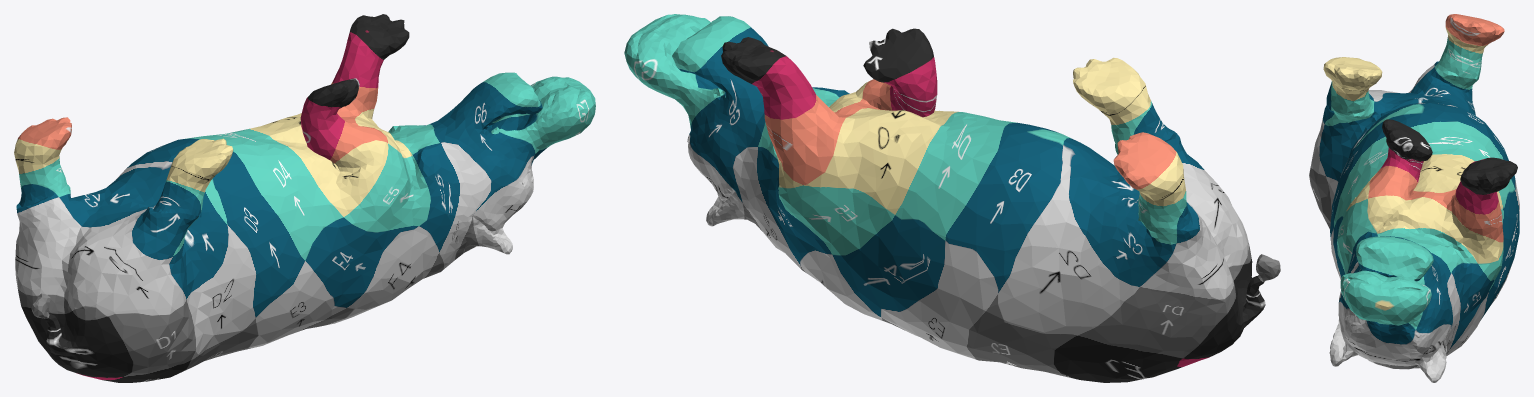
Rendered from horse_08-hippo_04.obj.
The picture shows the model from 3 angles, left to right: view 1: azimuth 30°, elevation 25°; view 2: azimuth 150°, elevation 25°; view 3: azimuth 270°, elevation 25°; orthographic projection. The views are drawn at different scales.
Visible parts, largest first — view 1: horse_08-hippo_04_export; view 2: horse_08-hippo_04_export; view 3: horse_08-hippo_04_export.
Boxes of the visible parts, <box> form: horse_08-hippo_04_export: <box>14,14,595,382</box>; horse_08-hippo_04_export: <box>624,14,1280,382</box>; horse_08-hippo_04_export: <box>1309,14,1519,382</box>.
Bounding box in the file's own units: 0.996 × 0.4291 × 0.3337.
